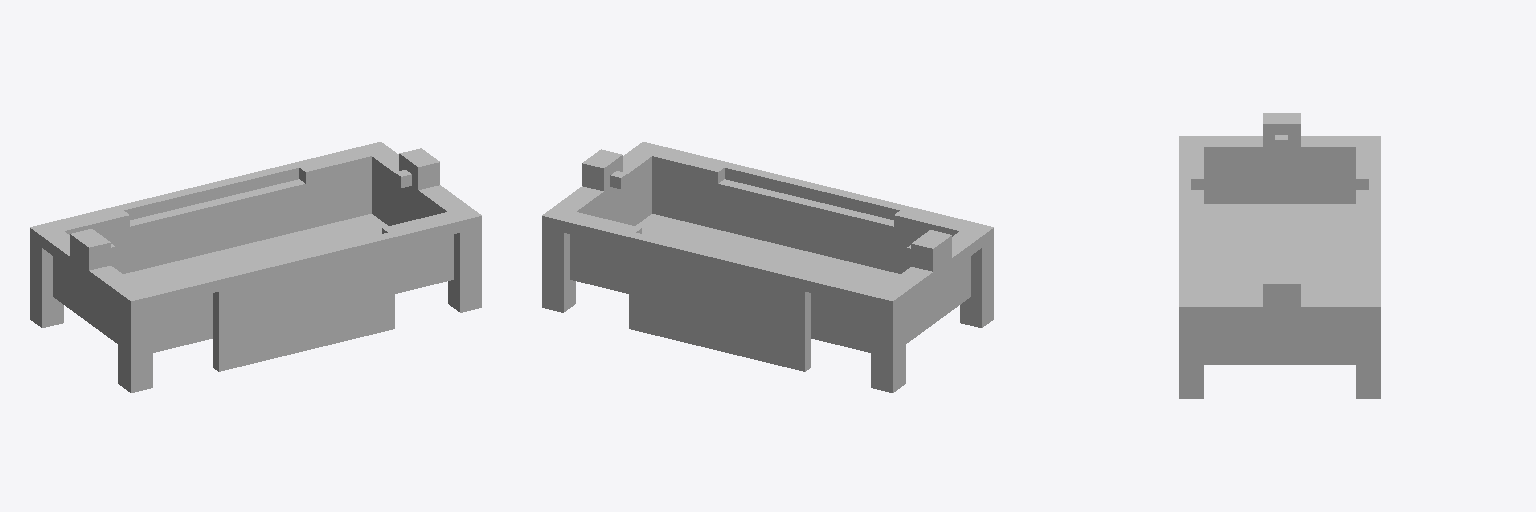
File: magnetic_separator_mirrored.obj
3 views of the same model, side by side, from view 1: azimuth 30°, elevation 25°; view 2: azimuth 150°, elevation 25°; view 3: azimuth 270°, elevation 25° (orthographic).
Visible parts, largest first — view 1: cube; view 2: cube; view 3: cube.
Part boxes in pixels (bbox=[...]): cube: bbox=[30, 142, 481, 392]; cube: bbox=[542, 142, 993, 392]; cube: bbox=[1179, 113, 1380, 398].
Size of the model in its own units: 4 by 1.25 by 2.